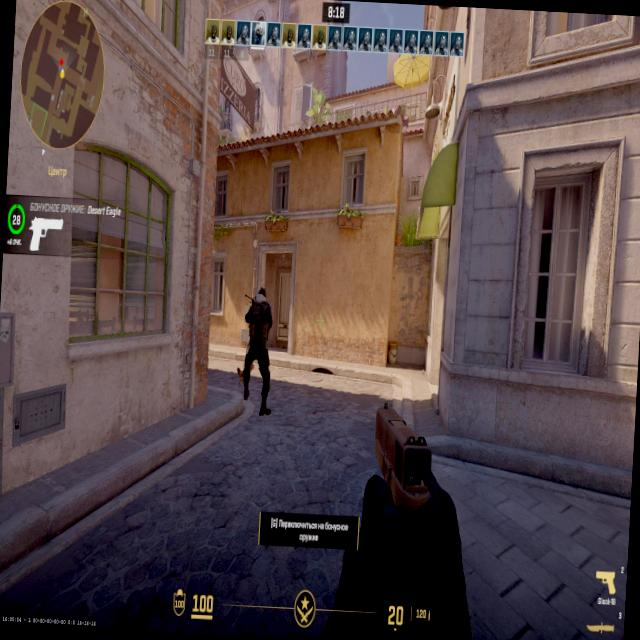CT: (246, 288, 273, 409)
CT_heat: (260, 286, 264, 302)
